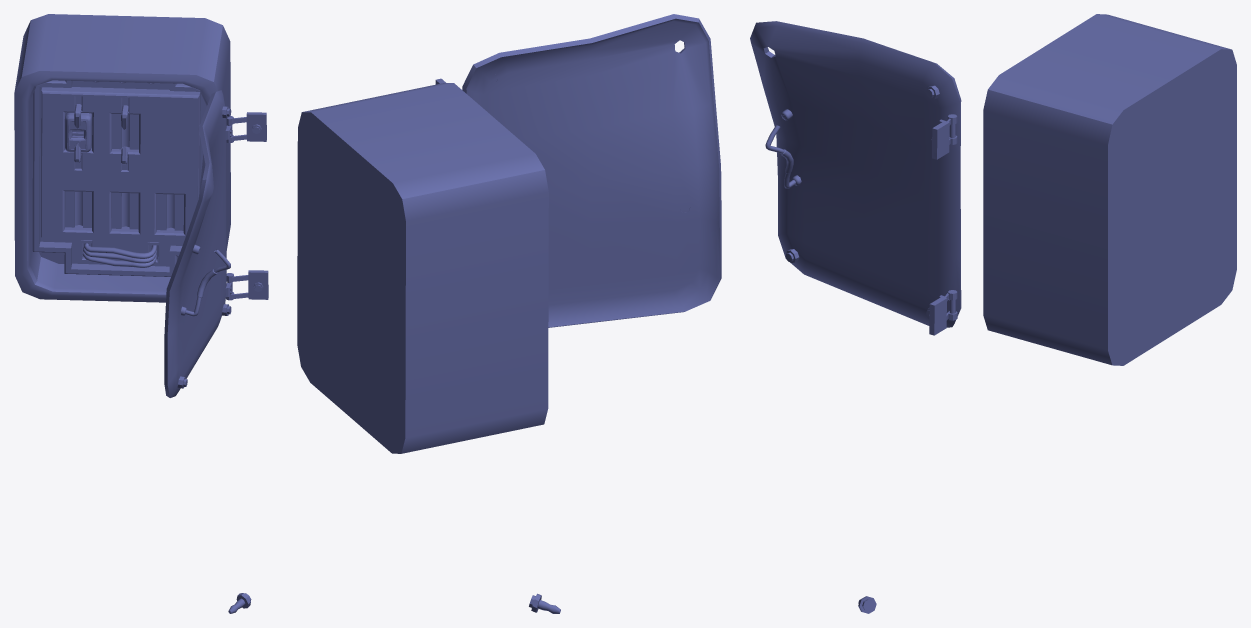
File: LegMinigame.fbx
3 renders of one model, left to right at view 1: azimuth 30°, elevation 25°; view 2: azimuth 150°, elevation 25°; view 3: azimuth 270°, elevation 25°, orthographic. The views are drawn at different scales.
Parts seen in each view (by area): view 1: Housing_Geo, LegMinigameDoor_Geo, Fuse_Geo; view 2: Housing_Geo, LegMinigameDoor_Geo; view 3: Housing_Geo, LegMinigameDoor_Geo.
Boxes of the visible parts, left/top/right/bottom form: Housing_Geo: left=14, top=14, right=268, bottom=613; LegMinigameDoor_Geo: left=164, top=90, right=234, bottom=397; Fuse_Geo: left=64, top=112, right=92, bottom=152; Housing_Geo: left=297, top=78, right=560, bottom=613; LegMinigameDoor_Geo: left=462, top=14, right=721, bottom=327; Housing_Geo: left=858, top=14, right=1236, bottom=613; LegMinigameDoor_Geo: left=750, top=21, right=961, bottom=327.
Bounding box in the file's own units: 76.31 × 168 × 134.
